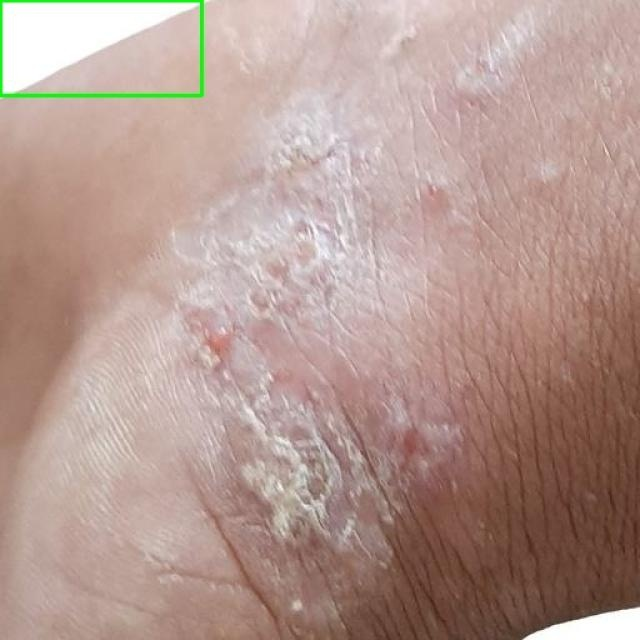Scabies: (0, 0, 201, 95)
